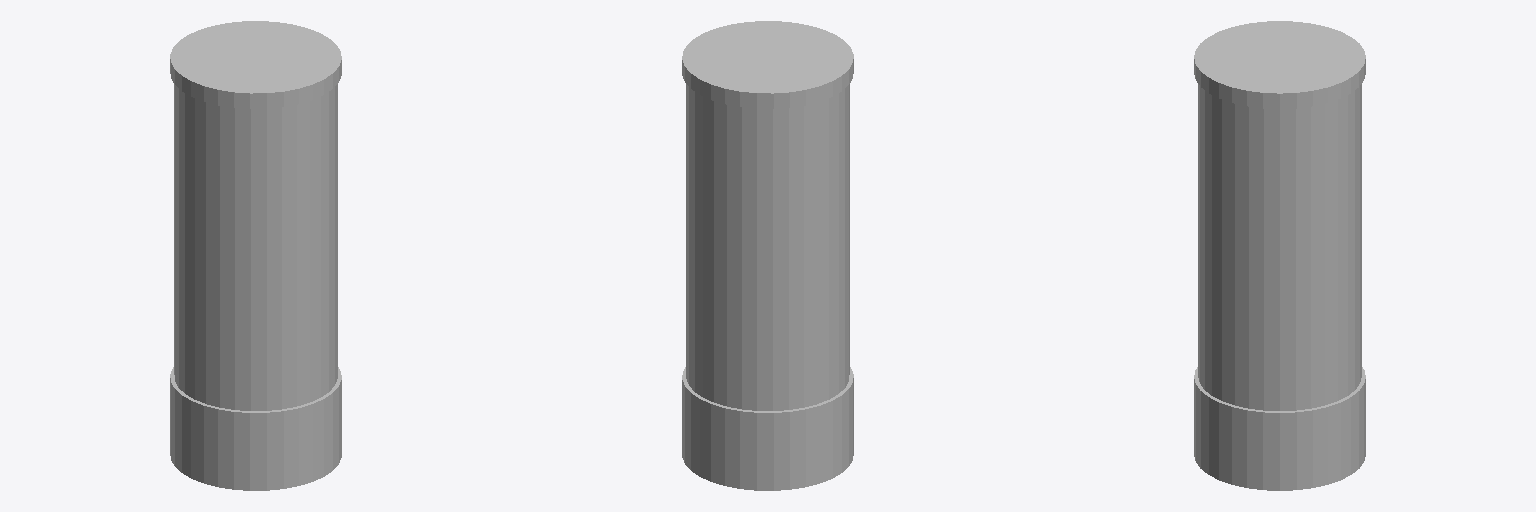
The model's file is pillar.obj.
3 views of the same model, side by side, from view 1: azimuth 30°, elevation 25°; view 2: azimuth 150°, elevation 25°; view 3: azimuth 270°, elevation 25° (orthographic).
Visible parts, largest first — view 1: Cylinder.001, Cylinder, Cylinder.002; view 2: Cylinder.001, Cylinder, Cylinder.002; view 3: Cylinder.001, Cylinder, Cylinder.002.
Boxes of the visible parts, x1,y1,x2,y2 form: Cylinder.001: [174, 84, 337, 410]; Cylinder: [170, 367, 341, 490]; Cylinder.002: [170, 21, 341, 108]; Cylinder.001: [686, 84, 849, 410]; Cylinder: [682, 367, 853, 490]; Cylinder.002: [682, 21, 853, 108]; Cylinder.001: [1198, 84, 1361, 410]; Cylinder: [1194, 367, 1365, 490]; Cylinder.002: [1194, 21, 1365, 108].
Size of the model in its own units: 2 by 5.1 by 2.